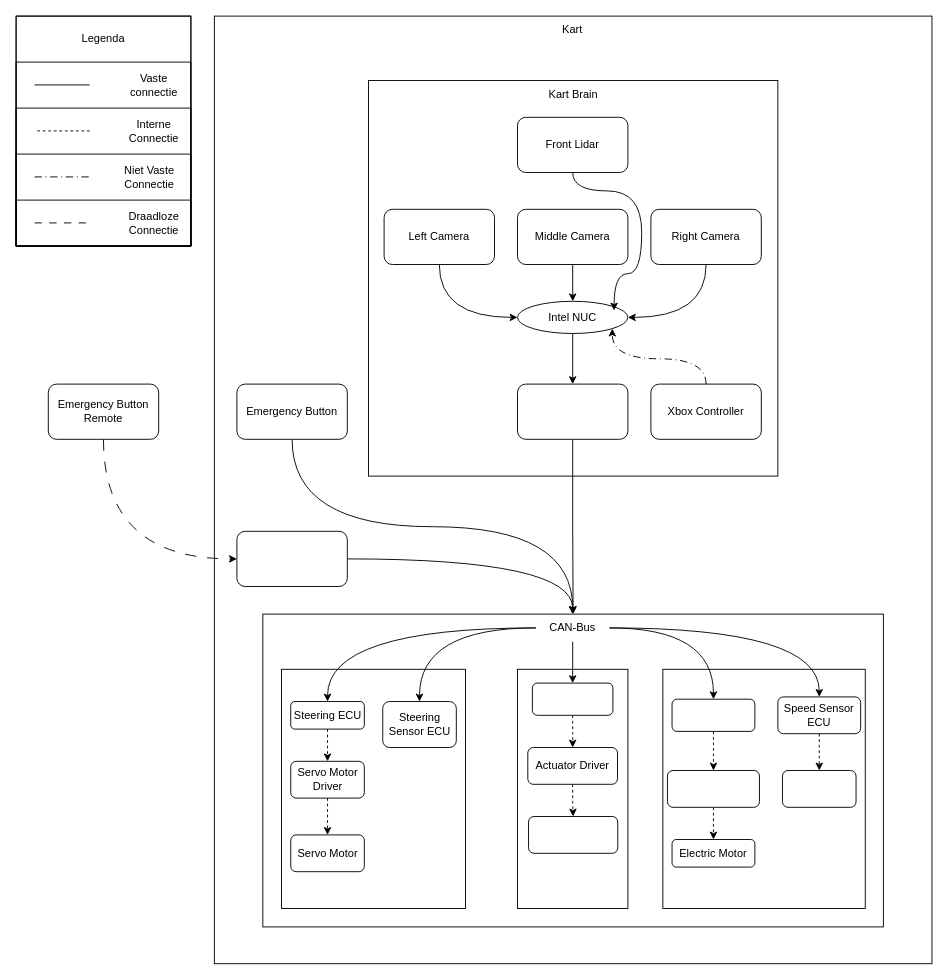
Image size: 949x980. Some labels were removed from this diagram. Here are the shapes that lost their labels. From the top down, the centre of each, then its label:
At point (572, 411): "USB CAN-Adapter".
At point (291, 558): "Emergency Button Reciever".
At point (572, 698): "Brake ECU".
At point (713, 714): "Motor ECU".
At point (713, 788): "Motor Controller".
At point (819, 788): "Hall-effect Sensor".
At point (573, 834): "Linear Actuator".
